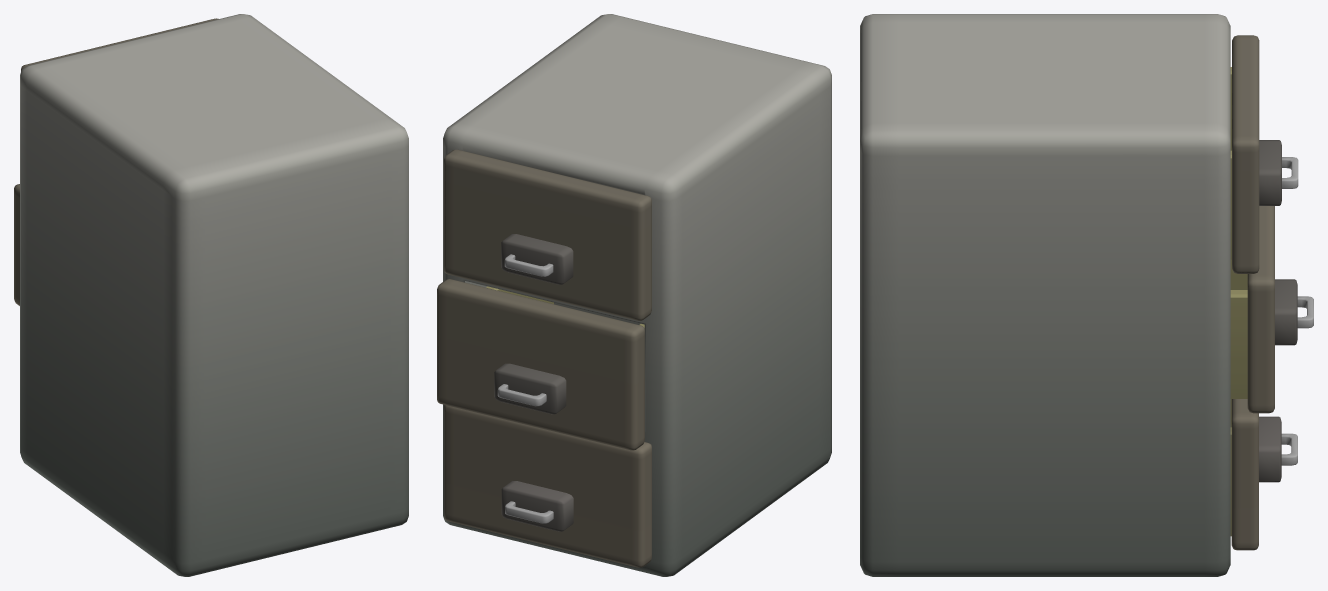
File: small_cabin_02.fbx
The picture shows the model from 3 angles, left to right: view 1: azimuth 30°, elevation 25°; view 2: azimuth 150°, elevation 25°; view 3: azimuth 270°, elevation 25°; orthographic projection. The views are drawn at different scales.
Visible parts, largest first — view 1: small_cabin_02; view 2: small_cabin_02; view 3: small_cabin_02.
Boxes of the visible parts, x1,y1,x2,y2 form: small_cabin_02: (14, 14, 408, 576); small_cabin_02: (437, 14, 831, 576); small_cabin_02: (860, 14, 1313, 576).
Size of the model in its own units: 40.17 by 65.75 by 60.65.
